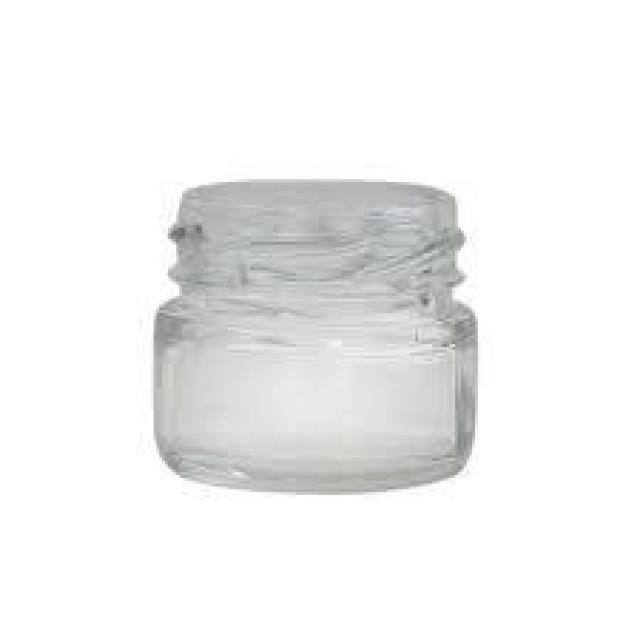Glass: (152, 176, 479, 497)
